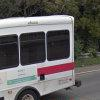Bus: (3, 13, 84, 95)
